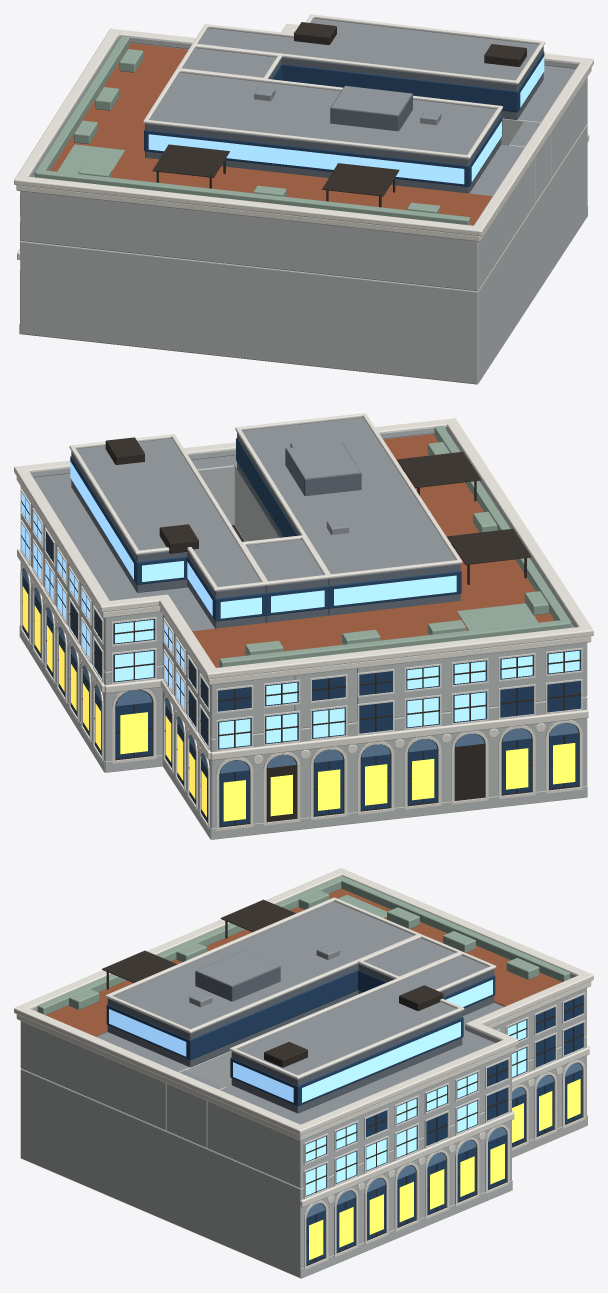
Rendered from 1-south-park.glb.
The picture shows the model from 3 angles, top to bottom: view 1: azimuth 30°, elevation 25°; view 2: azimuth 150°, elevation 25°; view 3: azimuth 270°, elevation 25°; orthographic projection. The views are drawn at different scales.
Visible parts, largest first — view 1: body_lo, body_hi1, pent1, pent0, cornice_hi, terrace_SW, terrace_NW, pent0_band, pent1_glow.003, hedge_SW, body_hi0, cornice_lo (+15 smaller); view 2: pent1, pent0, cornice_hi, body_lo, body_hi0, terrace_NW, body_hi1, terrace_SW, NW_plinth, cornice_lo, NW_string, hedge_NW (+70 smaller); view 3: body_lo, pent1, body_hi0, pent0, cornice_hi, body_hi1, pent1_band, cornice_lo, pent1_coping, overrun, pent0_coping, hedge_NW (+27 smaller).
Boxes of the visible parts, left/top/right/bottom form: body_lo: left=20, top=124, right=587, bottom=384; body_hi1: left=20, top=145, right=534, bottom=291; pent1: left=145, top=72, right=501, bottom=193; pent0: left=198, top=18, right=543, bottom=119; cornice_hi: left=14, top=23, right=593, bottom=236; terrace_SW: left=50, top=149, right=492, bottom=225; terrace_NW: left=51, top=43, right=188, bottom=179; pent0_band: left=281, top=51, right=544, bottom=112; pent1_glow.003: left=148, top=134, right=464, bottom=184; hedge_SW: left=35, top=169, right=470, bottom=225; body_hi0: left=130, top=42, right=587, bottom=178; cornice_lo: left=16, top=68, right=591, bottom=241; pent1: left=237, top=417, right=460, bottom=615; pent0: left=71, top=438, right=265, bottom=628; cornice_hi: left=14, top=418, right=593, bottom=679; body_lo: left=20, top=524, right=587, bottom=828; body_hi0: left=20, top=473, right=294, bottom=738; terrace_NW: left=192, top=593, right=554, bottom=667; body_hi1: left=229, top=433, right=587, bottom=721; terrace_SW: left=383, top=434, right=553, bottom=622; NW_plinth: left=211, top=786, right=587, bottom=839; cornice_lo: left=16, top=456, right=591, bottom=684; NW_string: left=210, top=709, right=588, bottom=760; hedge_NW: left=219, top=620, right=570, bottom=667; body_lo: left=20, top=1035, right=586, bottom=1278; pent1: left=107, top=901, right=413, bottom=1067; body_hi0: left=207, top=978, right=586, bottom=1188; pent0: left=231, top=955, right=494, bottom=1113; cornice_hi: left=14, top=868, right=593, bottom=1135; body_hi1: left=20, top=1011, right=231, bottom=1130; pent1_band: left=106, top=970, right=357, bottom=1060; cornice_lo: left=16, top=981, right=591, bottom=1140; pent1_coping: left=105, top=897, right=420, bottom=1033; overrun: left=195, top=950, right=280, bottom=1001; pent0_coping: left=229, top=951, right=496, bottom=1079; hedge_NW: left=338, top=876, right=570, bottom=981.
Bounding box in the file's own units: 58.92 × 20.2 × 54.91.
